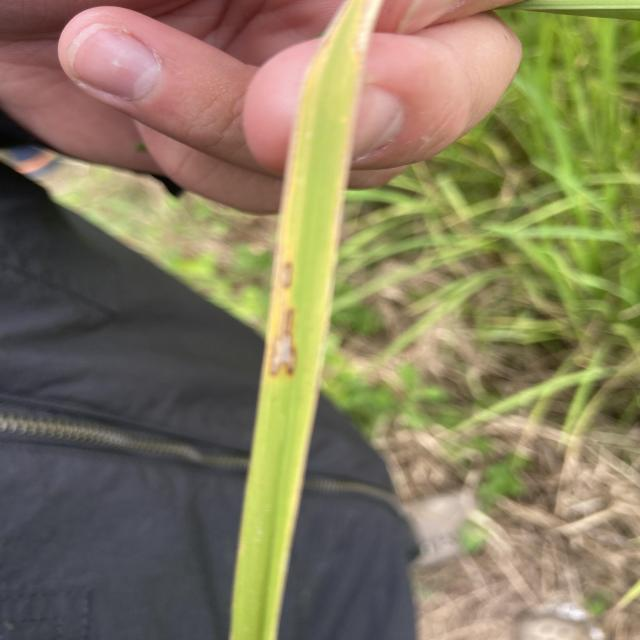Dao on: (267, 304, 301, 380), (278, 262, 295, 289)
